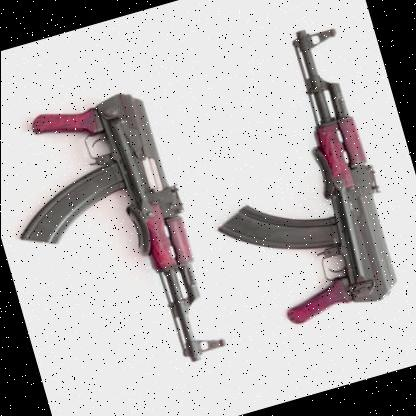rifle: (165, 15, 416, 350), (0, 69, 237, 399)
